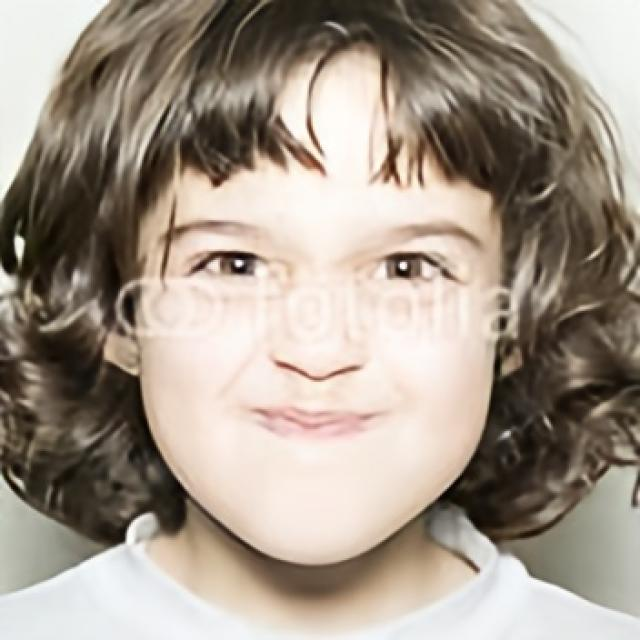content: (136, 41, 506, 566)
